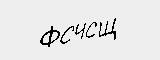С: (83, 17, 98, 40), (60, 23, 74, 46)
Ф: (38, 24, 60, 51)
Ч: (73, 19, 86, 41)
Щ: (96, 18, 118, 39)
